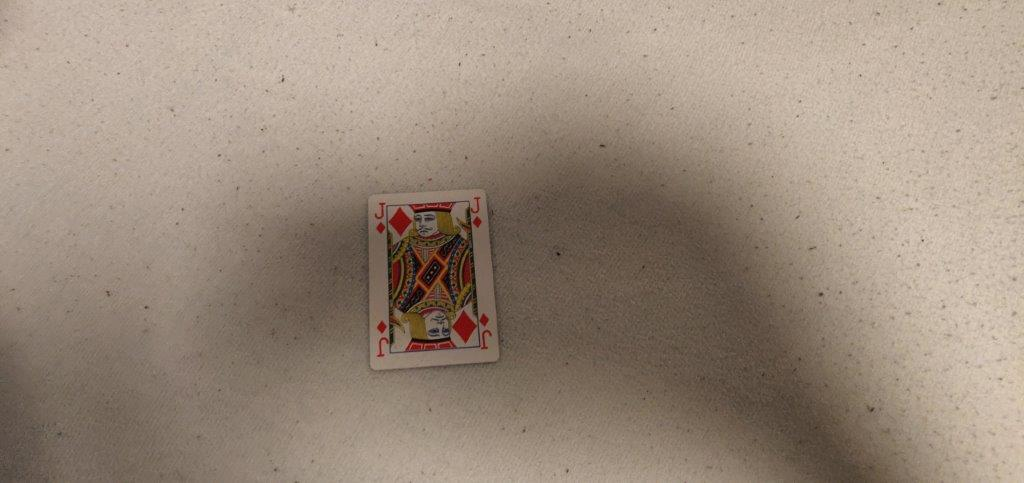JD: (465, 190, 486, 229), (369, 201, 390, 233)
